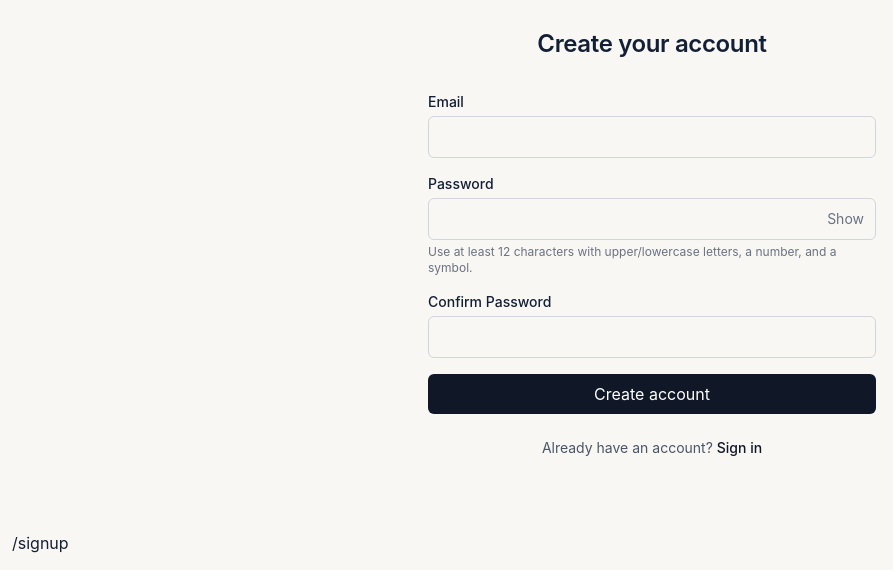
signup email flow › surfaces the provider error on the form (already-registered account)
Type "dup@example.test" into the field labelled "Email" at (652, 137), box [428, 116, 876, 158]
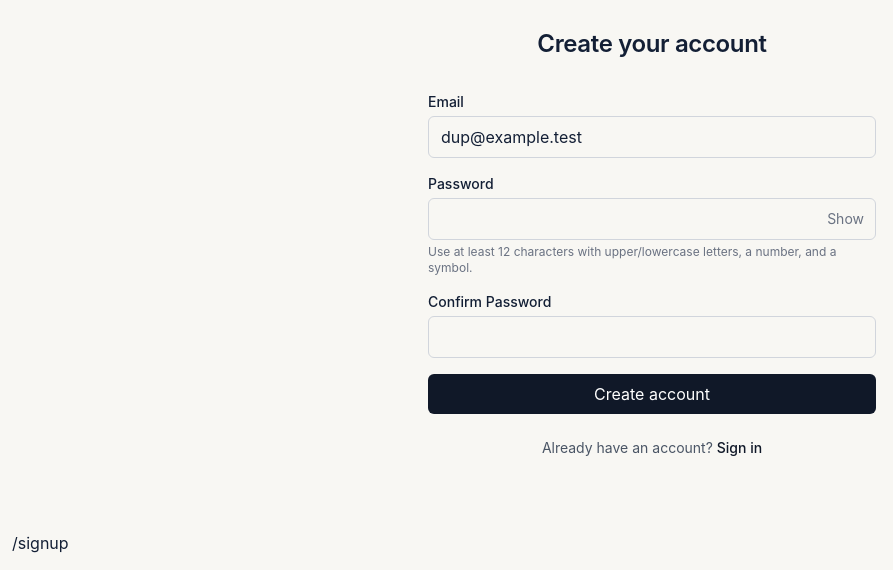
Type "Str0ng!Passw0rd" into the password field labelled "Password" at (652, 219), box [428, 198, 876, 240]
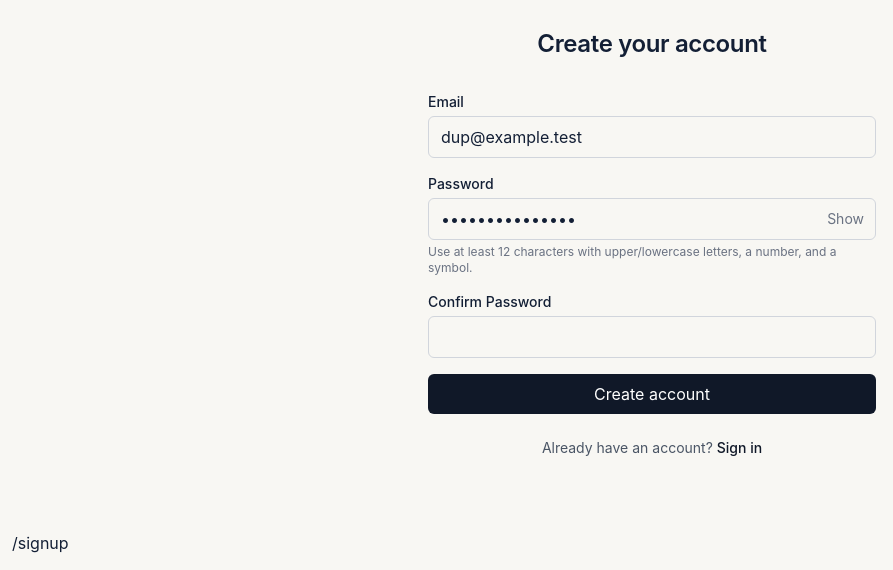
Type "Str0ng!Passw0rd" into the password field labelled "Confirm Password" at (652, 337), box [428, 316, 876, 358]
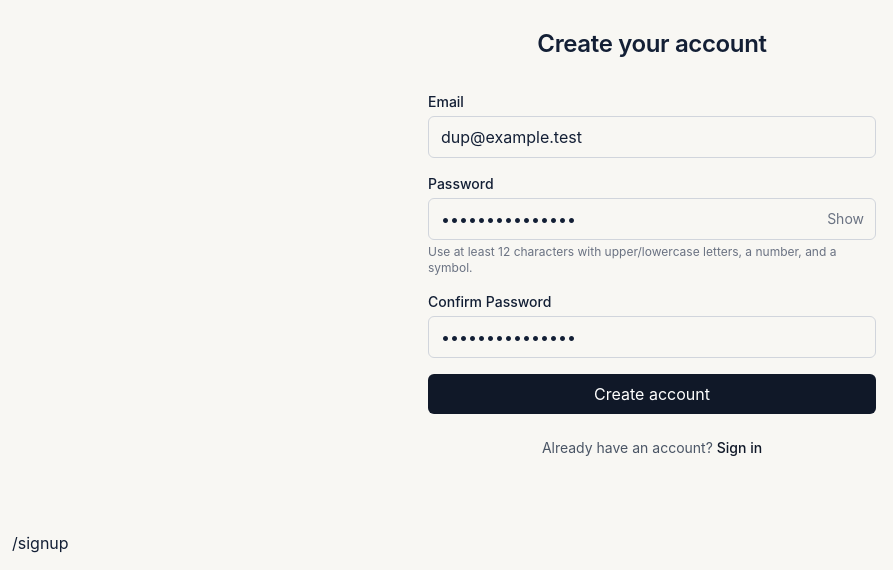
Click the button "Create account" at (652, 394), box [428, 374, 876, 414]
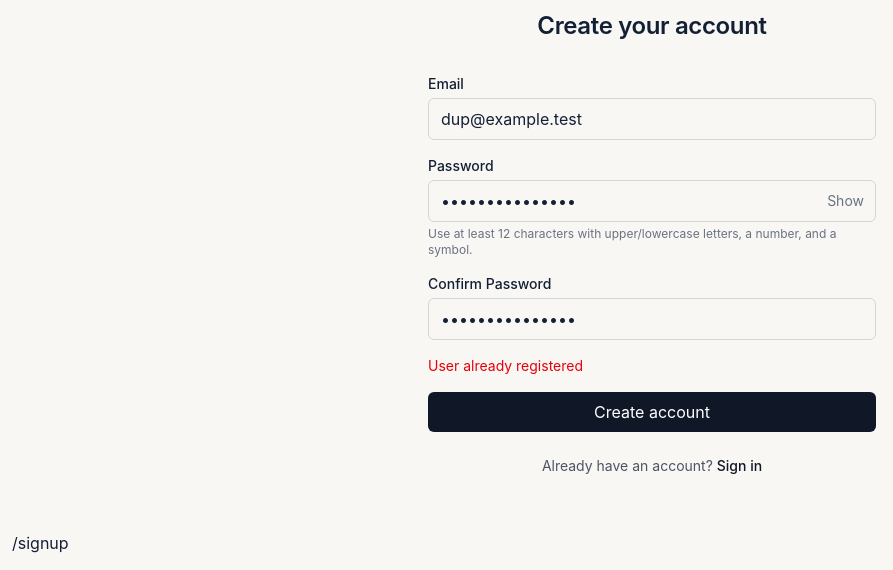
Expected: the text "User already registered" is shown, [428, 357, 583, 374]
